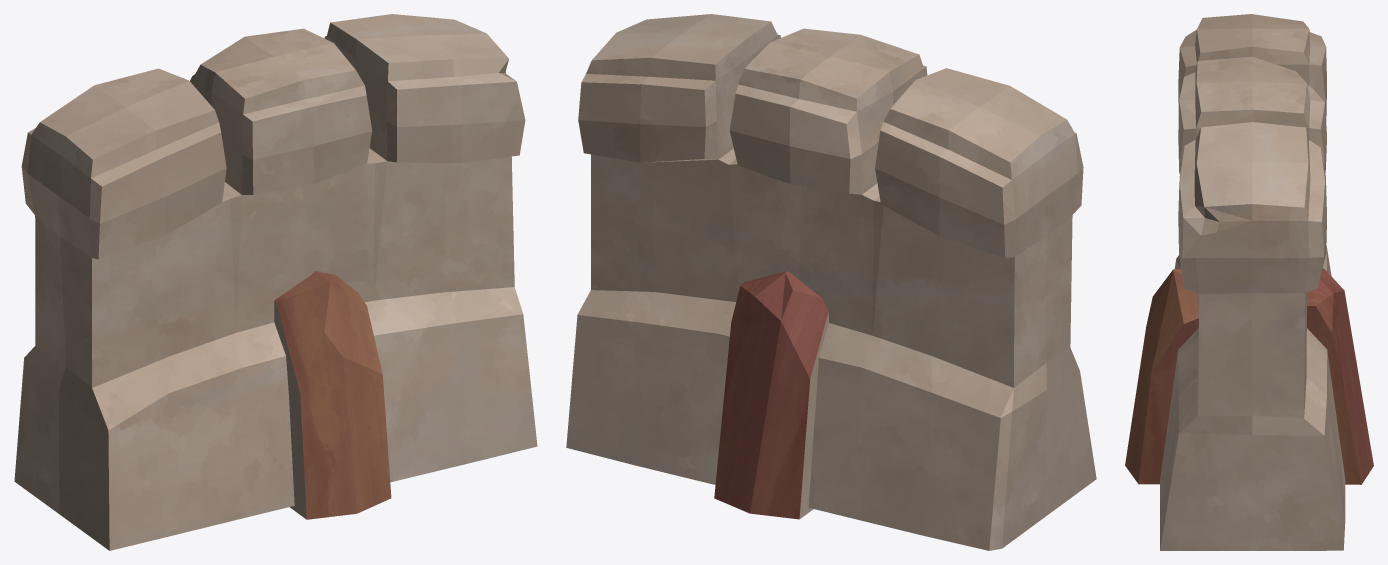
File: BRUME_WallShort.FBX
3 renders of one model, left to right at view 1: azimuth 30°, elevation 25°; view 2: azimuth 150°, elevation 25°; view 3: azimuth 270°, elevation 25°, orthographic. The views are drawn at different scales.
Visible parts, largest first — view 1: BRUME_WallShort; view 2: BRUME_WallShort; view 3: BRUME_WallShort.
Boxes of the visible parts, left/top/right/bottom form: BRUME_WallShort: left=14, top=14, right=537, bottom=550; BRUME_WallShort: left=566, top=14, right=1096, bottom=550; BRUME_WallShort: left=1125, top=14, right=1373, bottom=550.
Bounding box in the file's own units: 220 × 201 × 120.
